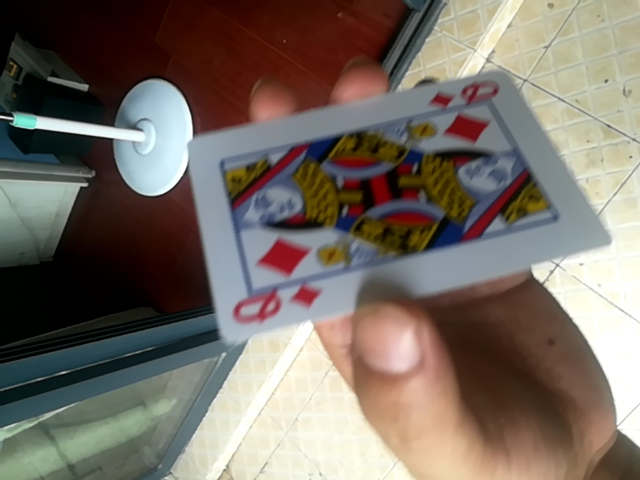fk q: (183, 70, 606, 349)
